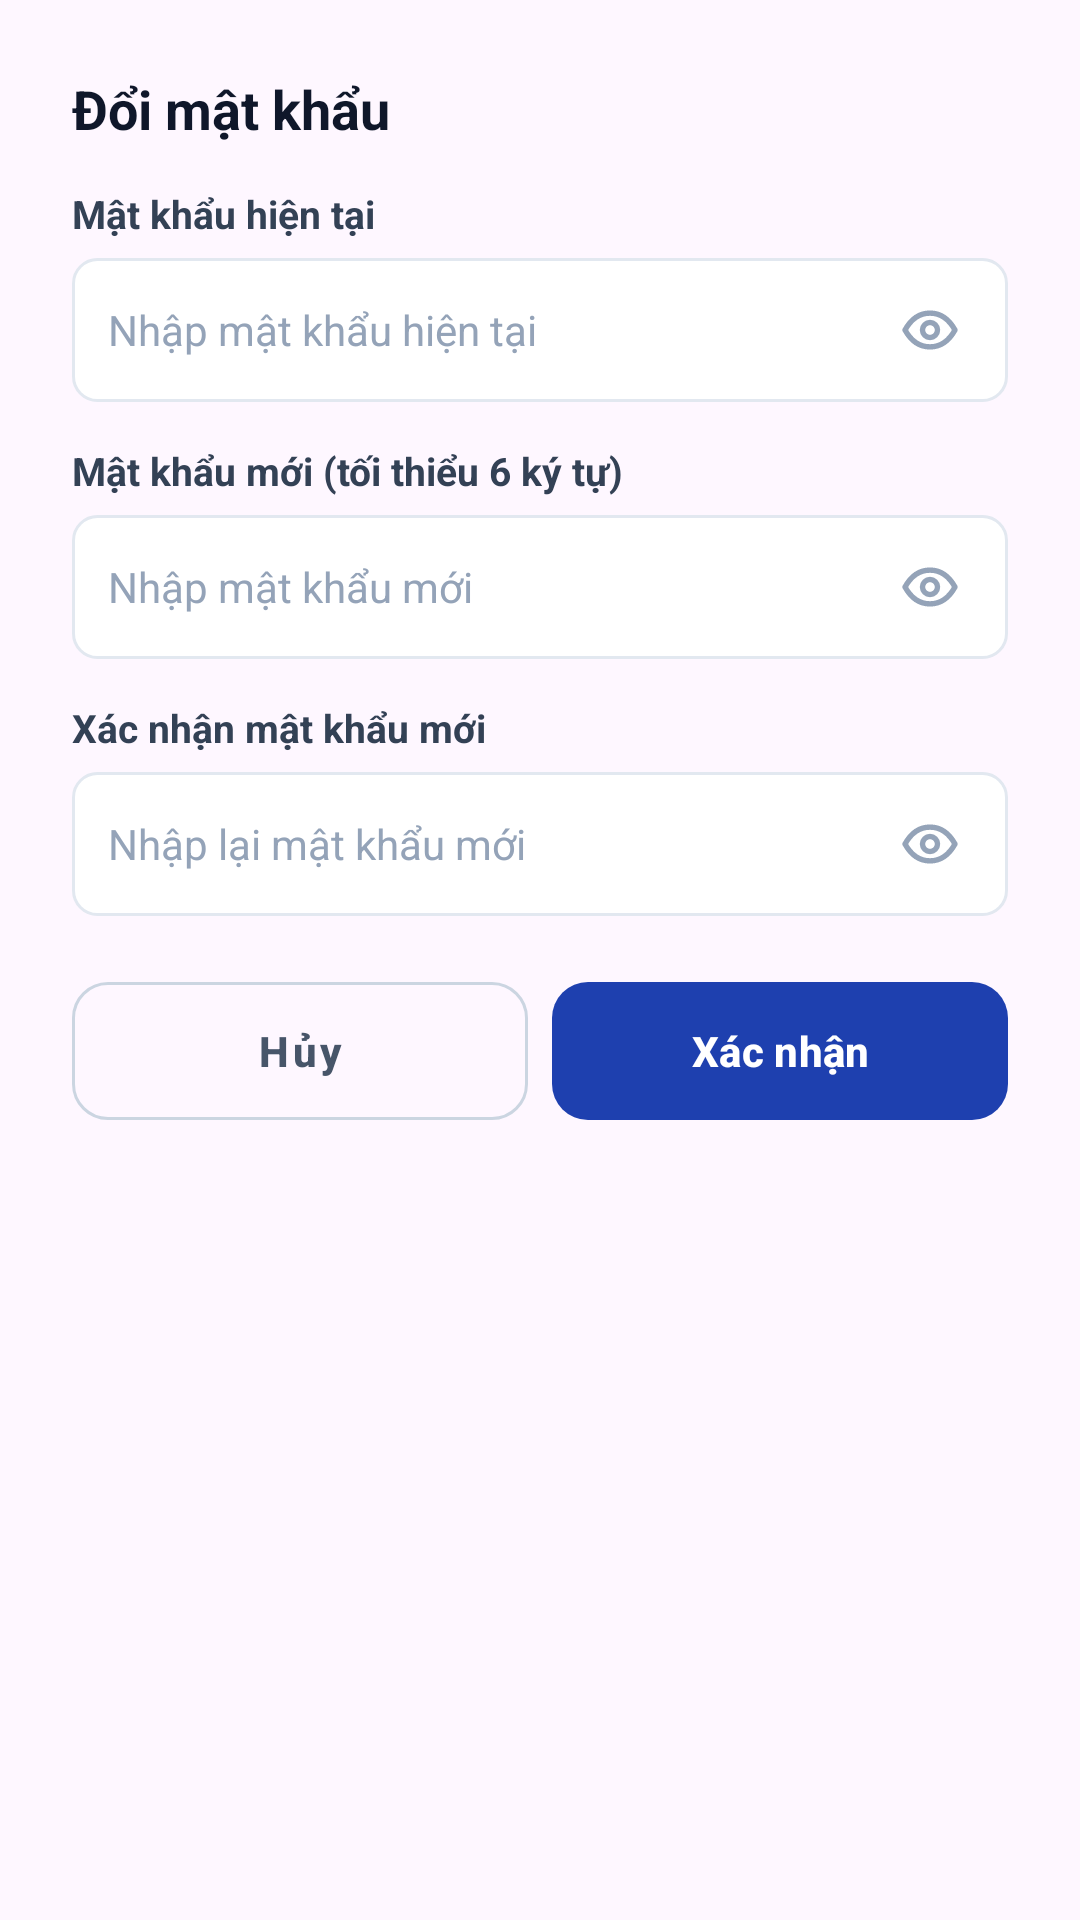

Point at icon controls on the screen. Image size 1080×1920, points as [x,y].
Toggle password: [930,330], [930,587], [930,844]
